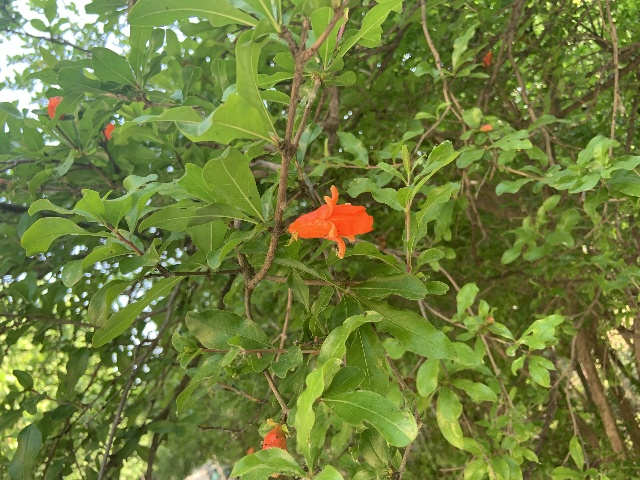flower: (288, 183, 373, 258)
